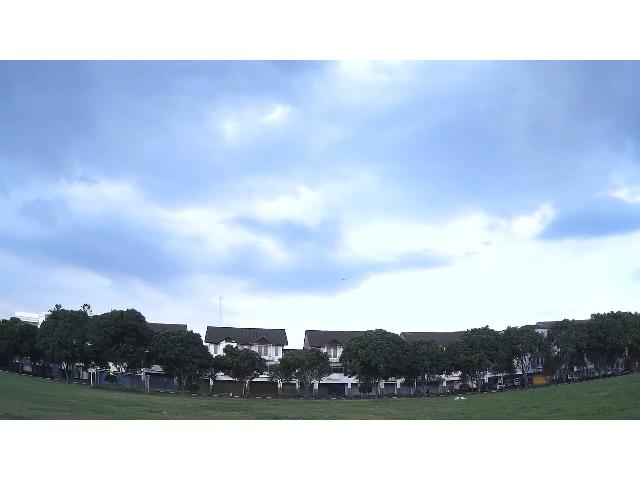Anti-Drone: (334, 276, 354, 286)
